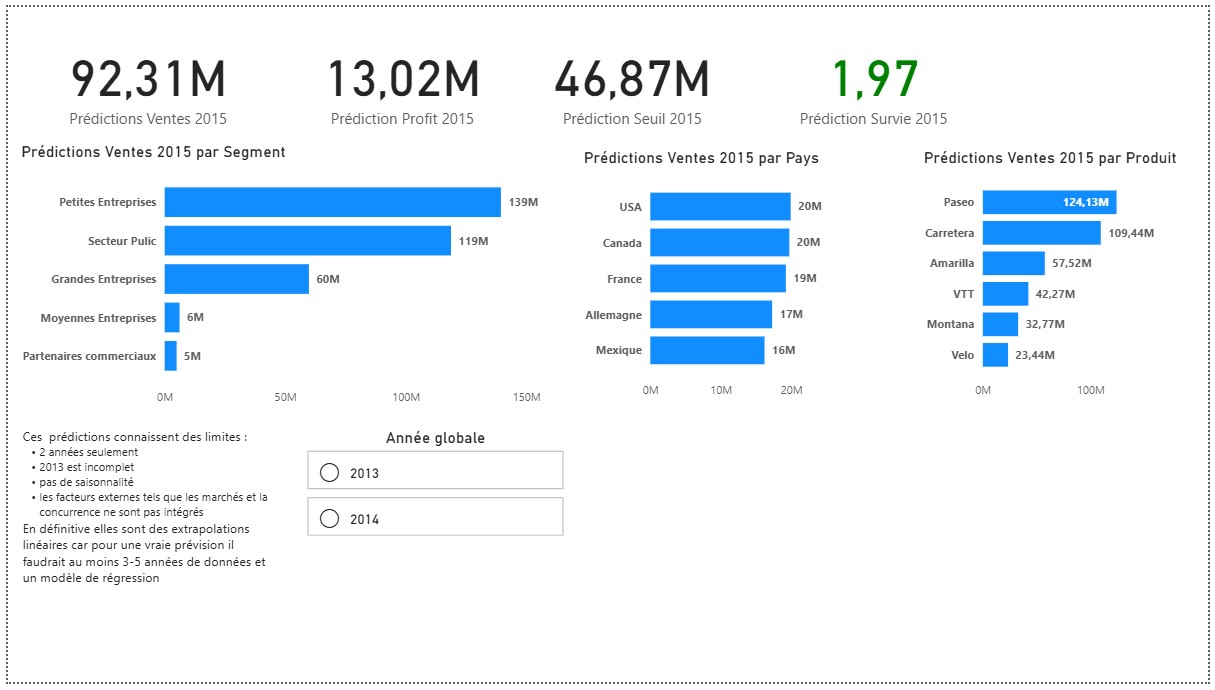

The dashboard page shown, as its layout file describes it:
{"tool":"powerbi","page":{"name":"Facteurs clés des prévisions et risques","canvas":[1280,720],"ordinal":3},"visuals":[{"type":"clusteredBarChart","title":"Prévisions ventes 2015 par segment","fields":{"Y":["financials.Predictions Ventes 2015 par Segment"],"Category":["financials.Segment"]},"box":[0,0,586.6,228.4],"z":0},{"type":"pivotTable","fields":{"Rows":["financials.Segment"],"Values":["financials.Prédictions Ventes 2015","financials.% Contribution","financials.Rang","financials.Croissance vs periode precedente"]},"box":[587.3,0,680.3,180.3],"z":1000},{"type":"barChart","title":"Prévisions des ventes 2015 par produit","fields":{"Category":["financials.Produit"],"Y":["financials.Prédictions Ventes 2015"]},"box":[1.5,228.4,586.6,226.9],"z":2000},{"type":"pivotTable","fields":{"Rows":["financials.Produit"],"Values":["financials.Prédictions Ventes 2015","financials.% Contribution","financials.Rang","financials.Croissance vs periode precedente"]},"box":[589,180.2,680.2,196.7],"z":3000},{"type":"clusteredBarChart","title":"Prévisions des ventes 2015 par pays","fields":{"Y":["financials.Predictions Ventes 2015 par Pays"],"Category":["financials.Country"]},"box":[0,472.1,577.9,247.1],"z":4000},{"type":"pivotTable","fields":{"Rows":["financials.Pays"],"Values":["financials.Prédictions Ventes 2015","financials.% Contribution","financials.Rang","financials.Croissance vs periode precedente"]},"box":[589.3,365.3,681.3,178.7],"z":5000},{"type":"card","title":"Top 3 Segment contribution","fields":{"Values":["financials.% CA Top 3 Segments"]},"box":[646.4,534.8,289.9,81.2],"z":6000},{"type":"card","fields":{"Values":["financials.% CA Top 2 Pays"]},"box":[598.6,636.2,179.7,84.1],"z":7000},{"type":"card","fields":{"Values":["financials.% CA Top 3 Produits"]},"box":[791.3,636.2,173.9,82.6],"z":8000},{"type":"barChart","title":"Concentration prévisionnelle du chiffre d''affaires","fields":{"Category":["Axe Concentration.Domaine"],"Y":["financials.% Top 1","financials.% Top 2-3","financials.% Autres"]},"box":[979.7,552.2,300,168.1],"z":9000}]}

Visuals, with their boxes in screenshot pixels (x1, y1, x2, y2), scaled from the page's 1280x720 canvas onto the 1215x690 screenshot:
"Prévisions ventes 2015 par segment" clusteredBarChart: x1=0 y1=0 x2=557 y2=219
pivotTable - financials.Segment x financials.Prédictions Ventes 2015: x1=557 y1=0 x2=1203 y2=173
"Prévisions des ventes 2015 par produit" barChart: x1=1 y1=219 x2=558 y2=436
pivotTable - financials.Produit x financials.Prédictions Ventes 2015: x1=559 y1=173 x2=1205 y2=361
"Prévisions des ventes 2015 par pays" clusteredBarChart: x1=0 y1=452 x2=549 y2=689
pivotTable - financials.Pays x financials.Prédictions Ventes 2015: x1=559 y1=350 x2=1206 y2=521
"Top 3 Segment contribution" card: x1=614 y1=513 x2=889 y2=590
card - financials.% CA Top 2 Pays: x1=568 y1=610 x2=739 y2=689
card - financials.% CA Top 3 Produits: x1=751 y1=610 x2=916 y2=689
"Concentration prévisionnelle du chiffre d''affaires" barChart: x1=930 y1=529 x2=1214 y2=689
